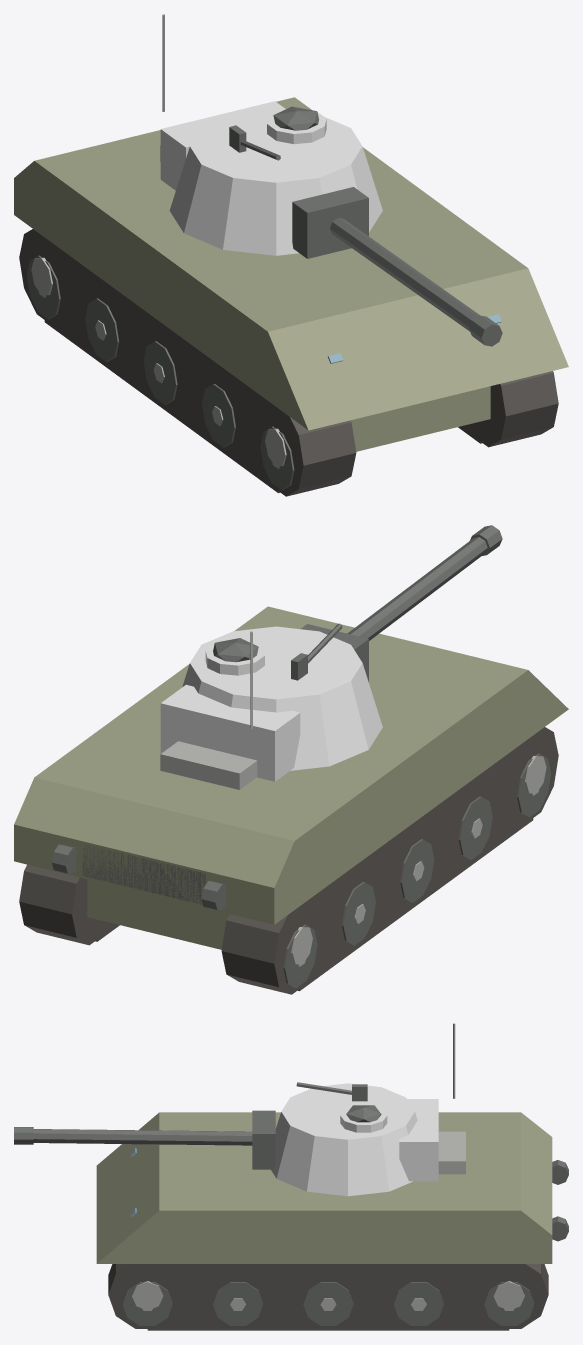
The model's file is civ_unit_tank.glb.
The picture shows the model from 3 angles, top to bottom: view 1: azimuth 30°, elevation 25°; view 2: azimuth 150°, elevation 25°; view 3: azimuth 270°, elevation 25°; orthographic projection. The views are drawn at different scales.
Parts seen in each view (by area): view 1: civ_unit_tank; view 2: civ_unit_tank; view 3: civ_unit_tank.
Part boxes in pixels (x1,y1,x2,y2): civ_unit_tank: (14,14,568,496); civ_unit_tank: (14,525,568,994); civ_unit_tank: (14,1023,568,1330).
Size of the model in its own units: 2.97 by 3.4 by 7.06.
